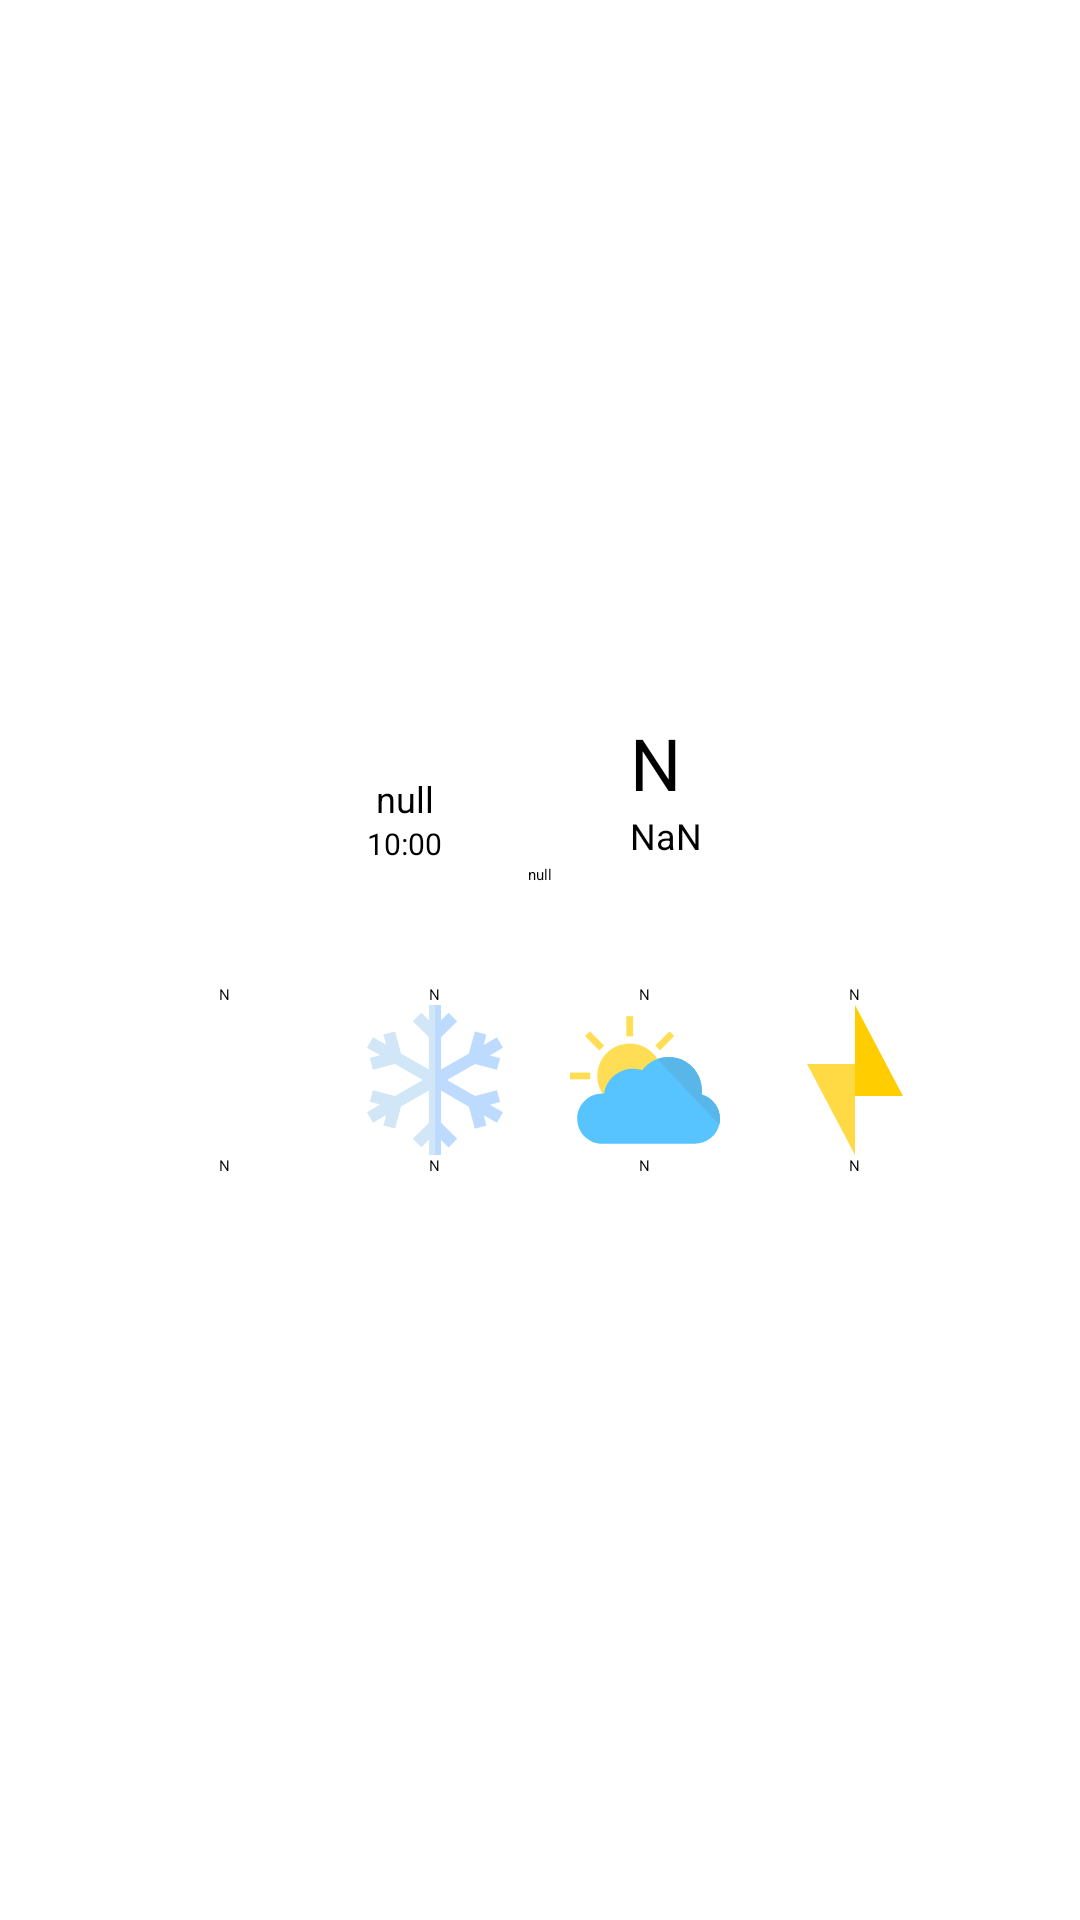

Icon bounding boxes for this 1080*1920 phone screenshot, format (x1, y1, x2, y2):
cloud sun: (570, 1016, 720, 1144)
snow: (367, 1005, 503, 1155)
thunderstorm: (807, 1005, 903, 1155)
